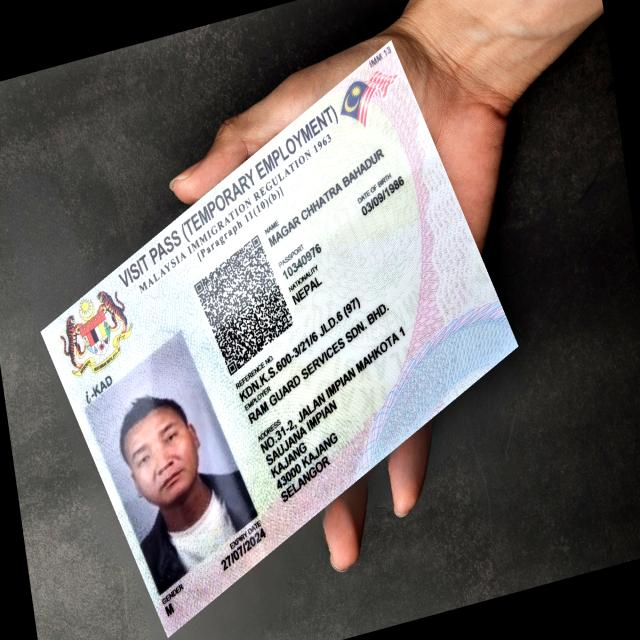ikad-temp: (39, 38, 518, 636)
